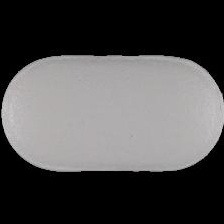21695-831: (0, 0, 224, 224)
